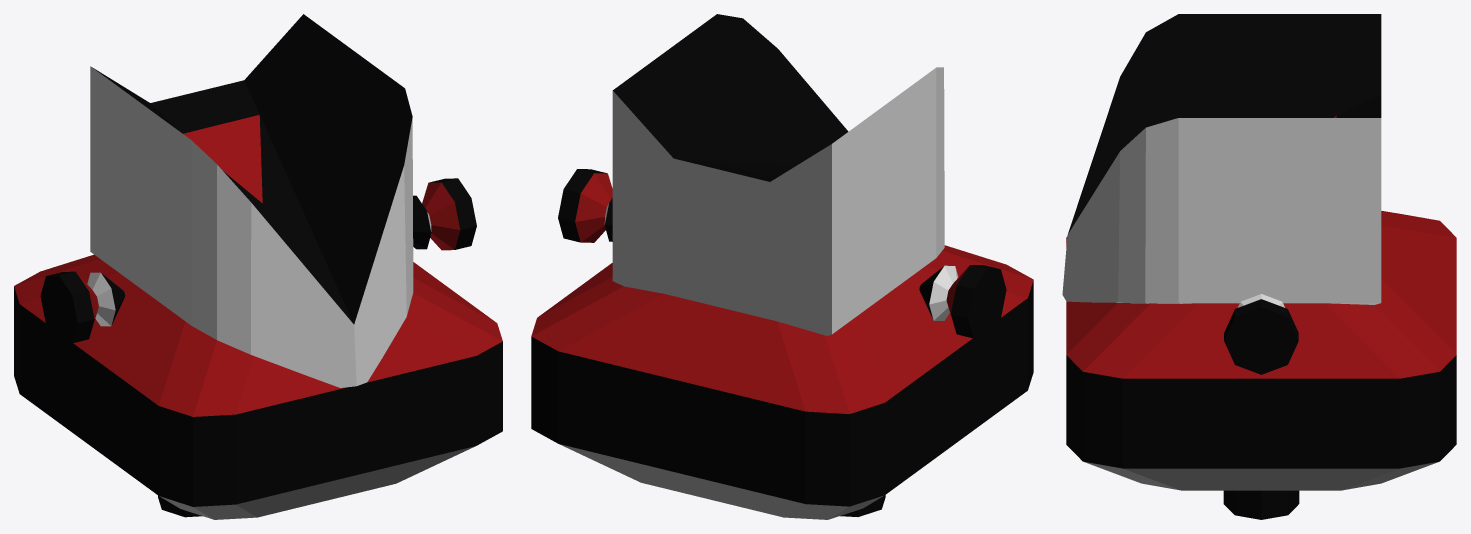
File: Inimigo.fbx
The picture shows the model from 3 angles, left to right: view 1: azimuth 30°, elevation 25°; view 2: azimuth 150°, elevation 25°; view 3: azimuth 270°, elevation 25°; orthographic projection. The views are drawn at different scales.
Parts seen in each view (by area): view 1: Cylinder; view 2: Cylinder; view 3: Cylinder.
Part boxes in pixels (bbox=[...]): Cylinder: bbox=[14, 14, 502, 519]; Cylinder: bbox=[531, 14, 1033, 519]; Cylinder: bbox=[1062, 14, 1456, 519].
Bounding box in the file's own units: 68.37 × 65.89 × 58.58.
